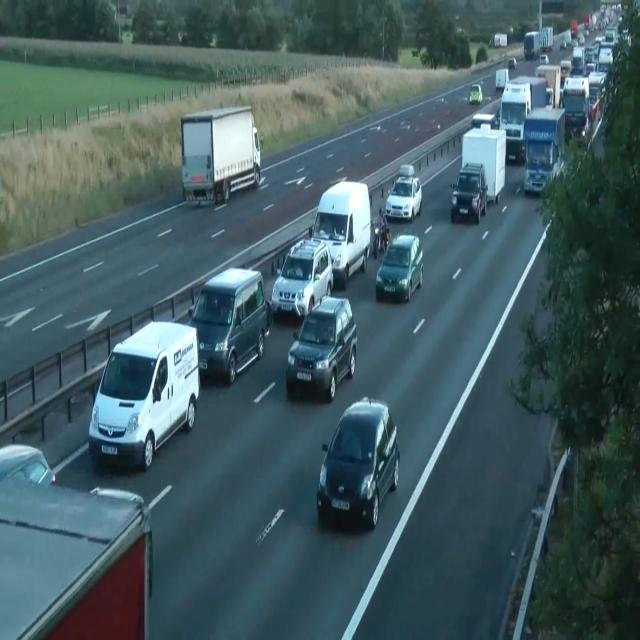bus: (0, 443, 153, 639), (0, 443, 56, 487), (530, 484, 558, 526), (391, 163, 415, 190), (471, 113, 497, 130), (469, 84, 483, 104), (399, 164, 415, 178), (538, 53, 549, 64), (507, 57, 517, 69), (560, 40, 566, 49)
jeep: (88, 319, 200, 470), (316, 396, 400, 530), (187, 267, 270, 384), (285, 294, 357, 400), (270, 236, 334, 320), (375, 232, 423, 302), (450, 161, 488, 223), (384, 164, 422, 222)
minibus: (180, 105, 260, 205), (308, 180, 372, 290), (498, 75, 548, 162), (522, 106, 566, 196), (461, 122, 506, 202), (561, 76, 591, 142), (534, 64, 560, 108), (523, 26, 553, 60), (523, 31, 540, 60), (540, 26, 554, 50), (495, 68, 509, 89), (493, 32, 507, 47)
